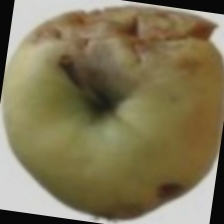apple: (10, 26, 192, 174)
